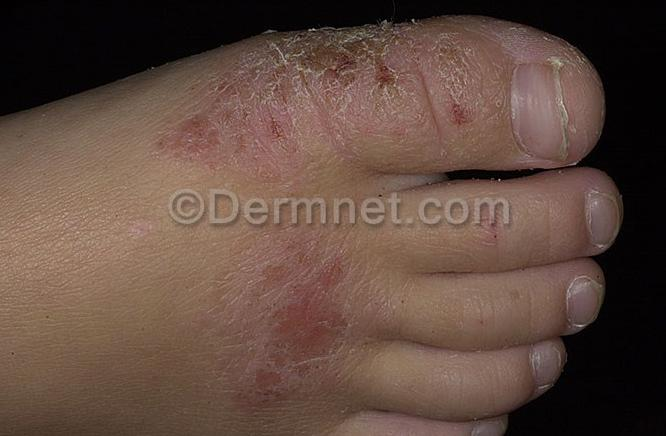eritema 3: (240, 215, 384, 412)
excoriacion 3: (173, 14, 487, 179), (256, 246, 358, 401)
exudacion 3: (243, 23, 463, 111)
xerosis 2: (161, 15, 636, 184)
